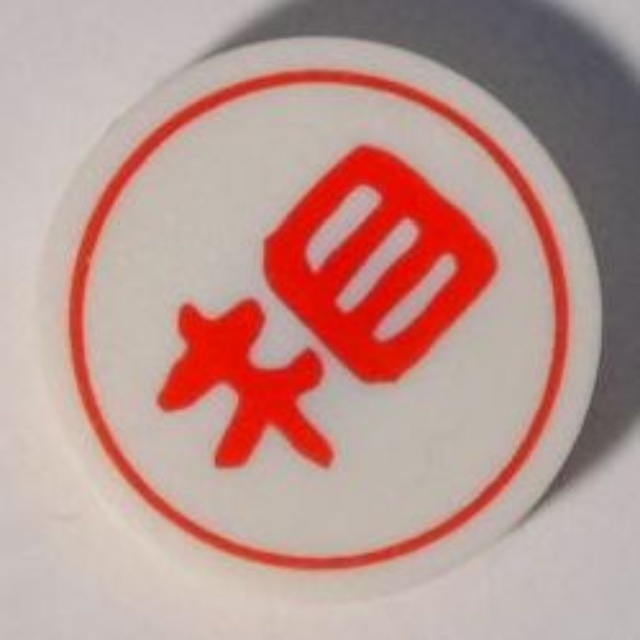red_bo: (30, 34, 611, 601)
